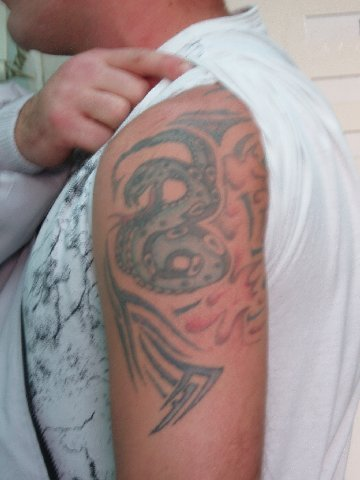tatu7_zmeya: (115, 125, 235, 287)
